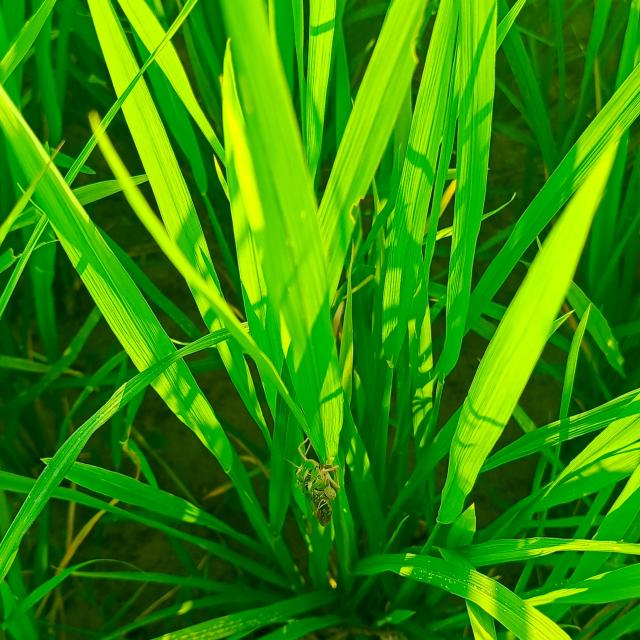belalang pada tanaman padi: (280, 435, 344, 528)
